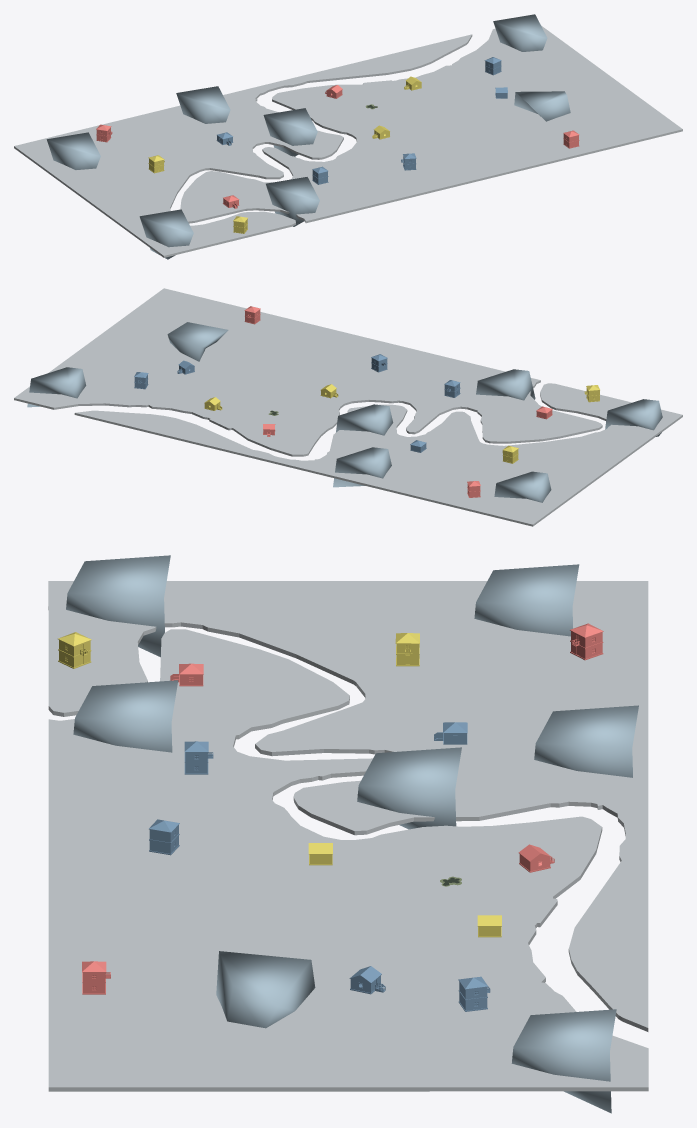
The model's file is brisbane.glb.
3 views of the same model, one above another, from view 1: azimuth 30°, elevation 25°; view 2: azimuth 150°, elevation 25°; view 3: azimuth 270°, elevation 25° (orthographic). The views are drawn at different scales.
Visible parts, largest first — view 1: Brisbane.south, Brisbane.north, 立方体.003, 立方体.002, 立方体.004, 立方体.001, 立方体.005, 立方体.006, 立方体; view 2: Brisbane.south, Brisbane.north, 立方体.001, 立方体, 立方体.003, 立方体.006, 立方体.004, 立方体.002, 立方体.005; view 3: Brisbane.south, Brisbane.north, 立方体.006, 立方体.004, 立方体.002, 立方体, 立方体.003, 立方体.001, 立方体.005, building_007.003, building_007.006, building_007.004 (+4 smaller).
Part boxes in pixels (x1=…): Brisbane.south: x1=180, y1=25, x2=682, y2=223; Brisbane.north: x1=14, y1=34, x2=472, y2=257; 立方体.003: x1=266, y1=177, x2=319, y2=226; 立方体.002: x1=263, y1=108, x2=317, y2=156; 立方体.004: x1=139, y1=209, x2=193, y2=259; 立方体.001: x1=176, y1=86, x2=230, y2=123; 立方体.005: x1=46, y1=132, x2=100, y2=169; 立方体.006: x1=493, y1=14, x2=547, y2=51; 立方体: x1=514, y1=91, x2=570, y2=121; Brisbane.south: x1=14, y1=288, x2=602, y2=456; Brisbane.north: x1=74, y1=383, x2=682, y2=526; 立方体.001: x1=333, y1=447, x2=391, y2=487; 立方体: x1=167, y1=322, x2=228, y2=361; 立方体.003: x1=476, y1=369, x2=535, y2=400; 立方体.006: x1=27, y1=367, x2=86, y2=407; 立方体.004: x1=605, y1=399, x2=662, y2=436; 立方体.002: x1=336, y1=404, x2=393, y2=435; 立方体.005: x1=494, y1=471, x2=551, y2=502; Brisbane.south: x1=48, y1=629, x2=648, y2=1091; Brisbane.north: x1=48, y1=581, x2=648, y2=1031; 立方体.006: x1=511, y1=1009, x2=616, y2=1113; 立方体.004: x1=66, y1=555, x2=170, y2=657; 立方体.002: x1=357, y1=747, x2=461, y2=829; 立方体: x1=216, y1=951, x2=315, y2=1028; 立方体.003: x1=73, y1=680, x2=178, y2=752; 立方体.001: x1=534, y1=705, x2=638, y2=777; 立方体.005: x1=474, y1=564, x2=579, y2=636; building_007.003: x1=58, y1=632, x2=91, y2=668; building_007.006: x1=570, y1=623, x2=603, y2=660; building_007.004: x1=149, y1=819, x2=179, y2=855.
Bounding box in the file's own units: 45.9 × 2.72 × 22.98.
